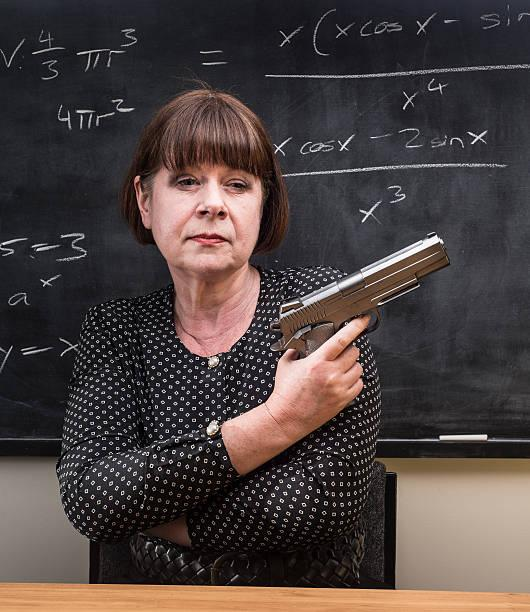weapon: (265, 227, 458, 369)
